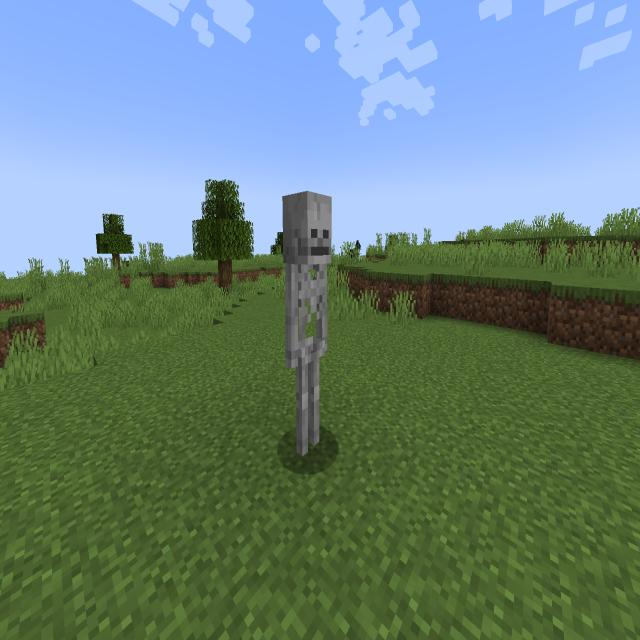Skeleton: (274, 181, 346, 482)
